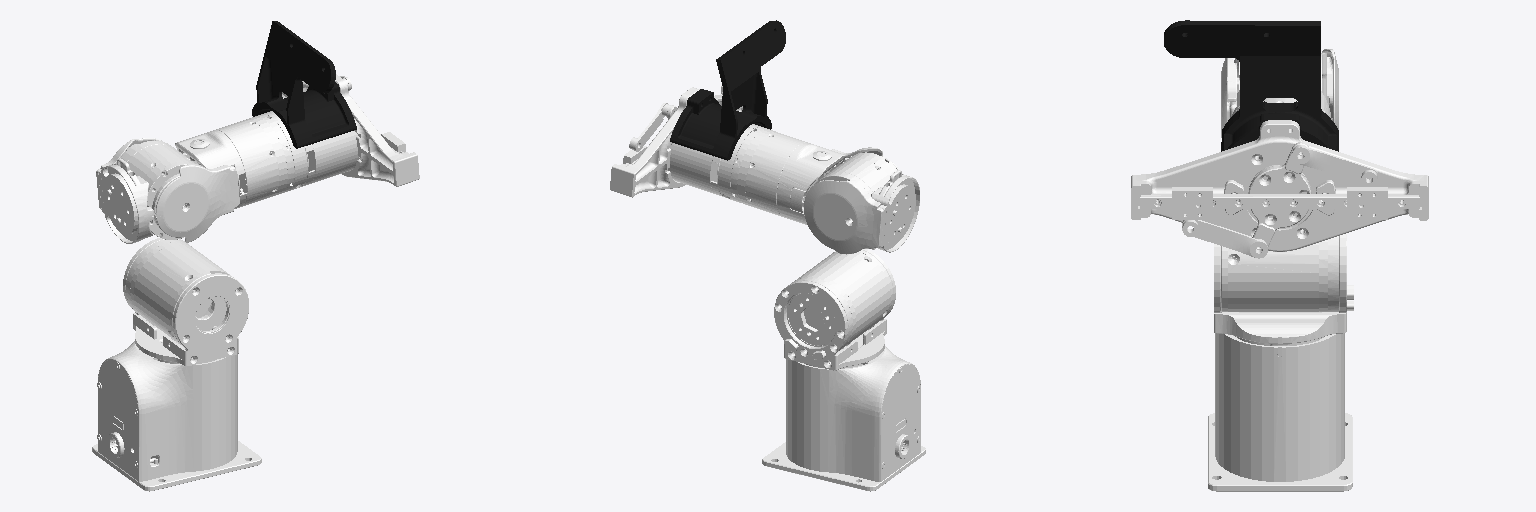
The robot description file, URDF, robot "piper_l_camera":
<?xml version="1.0" ?>
<!-- =================================================================================== -->
<!-- |    This document was autogenerated by xacro from piper_l_description.xacro      | -->
<!-- |    EDITING THIS FILE BY HAND IS NOT RECOMMENDED                                 | -->
<!-- =================================================================================== -->
<!-- This URDF was automatically created by SolidWorks to URDF Exporter! Originally created by [author] ([email redacted]) 
     Commit Version: 1.6.0-4-g7f85cfe  Build Version: 1.6.7995.38578
     For more information, please see http://wiki.ros.org/sw_urdf_exporter -->
<robot name="piper_l_camera">
  <material name="aluminum">
    <color rgba="0.5 0.5 0.5 1"/>
  </material>
  <material name="plastic">
    <color rgba="0.1 0.1 0.1 1"/>
  </material>
  <link name="d435_camera_link"/>
  <!-- camera body, with origin at bottom screw mount -->
  <joint name="camera_joint" type="fixed">
    <origin rpy="0 0 0" xyz="0 0 0"/>
    <parent link="d435_camera_link"/>
    <child link="camera_bottom_screw_frame"/>
  </joint>
  <link name="camera_bottom_screw_frame"/>
  <joint name="camera_link_joint" type="fixed">
    <origin rpy="0 0 0" xyz="0.010600000000000002 0.0175 0.0125"/>
    <parent link="camera_bottom_screw_frame"/>
    <child link="camera_link"/>
  </joint>
  <link name="camera_link">
    <visual>
      <!-- the mesh origin is at front plate in between the two infrared camera axes -->
      <origin rpy="1.5707963267948966 0 1.5707963267948966" xyz="0.0043 -0.0175 0"/>
      <geometry>
        <mesh filename="file://[local-path]/piper_ws/install/realsense2_description/share/realsense2_description/meshes/d435.dae"/>
      </geometry>
    </visual>
    <collision>
      <origin rpy="0 0 0" xyz="0 -0.0175 0"/>
      <geometry>
        <box size="0.02505 0.09 0.025"/>
      </geometry>
    </collision>
    <inertial>
      <!-- The following are not reliable values, and should not be used for modeling -->
      <mass value="0.072"/>
      <origin xyz="0 0 0"/>
      <inertia ixx="0.003881243" ixy="0.0" ixz="0.0" iyy="0.000498940" iyz="0.0" izz="0.003879257"/>
    </inertial>
  </link>
  <!-- <xacro:if value="${add_plug}">
      <xacro:usb_plug parent="${name}_link" name="${name}_usb_plug">
        <origin xyz="${d435_cam_mount_from_center_offset - 0.02095} ${-d435_cam_depth_py - 0.0353} 0" rpy="0 0 0"/>
      </xacro:usb_plug>
    </xacro:if> -->
  <link name="base_link">
    <inertial>
      <origin rpy="0 0 0" xyz="-0.00868903062596066 -7.81380379250471E-05 0.0446229676471226"/>
      <mass value="0.228506683240186"/>
      <inertia ixx="0.000187231110737863" ixy="-1.08010529187549E-07" ixz="7.71183528612253E-06" iyy="0.000204010911651774" iyz="1.70367399031094E-07" izz="0.00023064619033588"/>
    </inertial>
    <visual>
      <origin rpy="0 0 0" xyz="0 0 0"/>
      <geometry>
        <mesh filename="package://piper_l_description/meshes/dae/base_link.dae"/>
      </geometry>
      <material name="">
        <color rgba="1 1 1 1"/>
      </material>
    </visual>
    <collision>
      <origin rpy="0 0 0" xyz="0 0 0"/>
      <geometry>
        <mesh filename="package://piper_l_description/meshes/dae/base_link.dae"/>
      </geometry>
    </collision>
  </link>
  <link name="Link1">
    <inertial>
      <origin rpy="0 0 0" xyz="0.000817078696798893 0.00114472671573105 -0.00814265146610774"/>
      <mass value="0.104656591084326"/>
      <inertia ixx="3.99694684501781E-05" ixy="2.71846206160129E-07" ixz="1.78275886199695E-07" iyy="5.78589658643876E-05" iyz="1.01977672018063E-07" izz="4.75851844139222E-05"/>
    </inertial>
    <visual>
      <origin rpy="0 0 0" xyz="0 0 0"/>
      <geometry>
        <mesh filename="package://piper_l_description/meshes/dae/link1.dae"/>
      </geometry>
      <material name="">
        <color rgba="1 1 1 1"/>
      </material>
    </visual>
    <collision>
      <origin rpy="0 0 0" xyz="0 0 0"/>
      <geometry>
        <mesh filename="package://piper_l_description/meshes/dae/link1.dae"/>
      </geometry>
    </collision>
  </link>
  <joint name="joint1" type="revolute">
    <origin rpy="0 0 0" xyz="0 0 0.123"/>
    <parent link="base_link"/>
    <child link="Link1"/>
    <axis xyz="0 0 1"/>
    <limit effort="100" lower="-2.618" upper="2.618" velocity="3"/>
  </joint>
  <link name="Link2">
    <inertial>
      <origin rpy="0 0 0" xyz="0.214411452554835 -0.0136807991474291 0.00265923105206891"/>
      <mass value="0.289829779851577"/>
      <inertia ixx="0.000159609737372076" ixy="8.49438511625834E-05" ixz="-8.73341391348404E-07" iyy="0.00182424524515505" iyz="-1.7222217649261E-06" izz="0.00188778950006189"/>
    </inertial>
    <visual>
      <origin rpy="0 0 0" xyz="0 0 0"/>
      <geometry>
        <mesh filename="package://piper_l_description/meshes/dae/link2.dae"/>
      </geometry>
      <material name="">
        <color rgba="1 1 1 1"/>
      </material>
    </visual>
    <collision>
      <origin rpy="0 0 0" xyz="0 0 0"/>
      <geometry>
        <mesh filename="package://piper_l_description/meshes/dae/link2.dae"/>
      </geometry>
    </collision>
  </link>
  <joint name="joint2" type="revolute">
    <origin rpy="1.5708 -0.10598 3.1416" xyz="0 0 0"/>
    <parent link="Link1"/>
    <child link="Link2"/>
    <axis xyz="0 0 1"/>
    <limit effort="100" lower="0" upper="3.14" velocity="3"/>
  </joint>
  <link name="Link3">
    <inertial>
      <origin rpy="0 0 0" xyz="-0.00911397384332024 -0.149791842909887 -0.000591510024110218"/>
      <mass value="0.144963320053385"/>
      <inertia ixx="0.000284000764414434" ixy="6.61776597268393E-06" ixz="3.88642213881568E-07" iyy="4.88134965842348E-05" iyz="8.80027301936097E-07" izz="0.000297733639002112"/>
    </inertial>
    <visual>
      <origin rpy="0 0 0" xyz="0 0 0"/>
      <geometry>
        <mesh filename="package://piper_l_description/meshes/dae/link3.dae"/>
      </geometry>
      <material name="">
        <color rgba="1 1 1 1"/>
      </material>
    </visual>
    <collision>
      <origin rpy="0 0 0" xyz="0 0 0"/>
      <geometry>
        <mesh filename="package://piper_l_description/meshes/dae/link3.dae"/>
      </geometry>
    </collision>
  </link>
  <joint name="joint3" type="revolute">
    <origin rpy="0 0 -1.8325" xyz="0.33823 0 0"/>
    <parent link="Link2"/>
    <child link="Link3"/>
    <axis xyz="0 0 1"/>
    <limit effort="100" lower="-2.697" upper="0" velocity="3"/>
  </joint>
  <link name="Link4">
    <inertial>
      <origin rpy="0 0 0" xyz="0.0010653905699945 0.00476990191039629 -0.00995810184233214"/>
      <mass value="0.063036548689954"/>
      <inertia ixx="1.68358640686144E-05" ixy="-1.51073528999065E-08" ixz="-3.61196055919328E-07" iyy="2.79335598814104E-05" iyz="1.18113194001076E-07" izz="1.85339684805634E-05"/>
    </inertial>
    <visual>
      <origin rpy="0 0 0" xyz="0 0 0"/>
      <geometry>
        <mesh filename="package://piper_l_description/meshes/dae/link4.dae"/>
      </geometry>
      <material name="">
        <color rgba="1 1 1 1"/>
      </material>
    </visual>
    <collision>
      <origin rpy="0 0 0" xyz="0 0 0"/>
      <geometry>
        <mesh filename="package://piper_l_description/meshes/dae/link4.dae"/>
      </geometry>
    </collision>
  </link>
  <joint name="joint4" type="revolute">
    <origin rpy="1.5708 0 0.1557" xyz="0 -0.3215 0"/>
    <parent link="Link3"/>
    <child link="Link4"/>
    <axis xyz="0 0 1"/>
    <limit effort="100" lower="-1.832" upper="1.832" velocity="3"/>
  </joint>
  <link name="Link5">
    <inertial>
      <origin rpy="0 0 0" xyz="-5.62618579153795E-05 -0.0453229588602131 -0.00689048082401968"/>
      <mass value="0.069099989781007"/>
      <inertia ixx="1.94244470320096E-05" ixy="-3.01270043465718E-08" ixz="-1.82908713601451E-08" iyy="2.97665185121334E-05" iyz="1.74803886281955E-07" izz="2.43073597160068E-05"/>
    </inertial>
    <visual>
      <origin rpy="0 0 0" xyz="0 0 0"/>
      <geometry>
        <mesh filename="package://piper_l_description/meshes/dae/link5.dae"/>
      </geometry>
      <material name="">
        <color rgba="1 1 1 1"/>
      </material>
    </visual>
    <collision>
      <origin rpy="0 0 0" xyz="0 0 0"/>
      <geometry>
        <mesh filename="package://piper_l_description/meshes/dae/link5.dae"/>
      </geometry>
    </collision>
  </link>
  <joint name="joint5" type="revolute">
    <origin rpy="-1.5708 -0.087272 0" xyz="0 0 0"/>
    <parent link="Link4"/>
    <child link="Link5"/>
    <axis xyz="0 0 -1"/>
    <limit effort="100" lower="-1.22" upper="1.22" velocity="3"/>
  </joint>
  <link name="Link6">
    <inertial>
      <origin rpy="0 0 0" xyz="-3.49720252756924E-15 -3.47851379593264E-06 -0.00315807577104896"/>
      <mass value="0.00563228459599247"/>
      <inertia ixx="5.13060019382932E-07" ixy="-1.55709158367416E-20" ixz="1.27617424904681E-19" iyy="5.13060019383189E-07" iyz="6.20132760426175E-20" izz="9.81761489300716E-07"/>
    </inertial>
    <visual>
      <origin rpy="-1.57 0 1.57" xyz="0.008 -0.002 0.064"/>
      <geometry>
        <mesh filename="package://piper_l_description/meshes/dae/gripper_base_100_v3.dae" scale="1 1 1"/>
      </geometry>
      <material name="">
        <color rgba="1 1 1 1"/>
      </material>
    </visual>
    <collision>
      <origin rpy="-1.57 0 1.57" xyz="0.008 -0.002 0.064"/>
      <geometry>
        <mesh filename="package://piper_l_description/meshes/dae/gripper_base_100_v3.dae" scale="1 1 1"/>
      </geometry>
    </collision>
  </link>
  <joint name="joint6" type="revolute">
    <origin rpy="1.5708 0 0" xyz="0 -0.091 0"/>
    <parent link="Link5"/>
    <child link="Link6"/>
    <axis xyz="0 0 1"/>
    <limit effort="100" lower="-3.14" upper="3.14" velocity="3"/>
  </joint>
  <link name="Link7">
    <visual>
      <geometry>
        <mesh filename="package://piper_l_description/meshes/dae/link7.dae"/>
      </geometry>
      <material name="LightGrey">
        <color rgba="0.7 0.7 0.7 1.0"/>
      </material>
    </visual>
    <collision>
      <geometry>
        <mesh filename="package://piper_l_description/meshes/dae/link7.dae"/>
      </geometry>
    </collision>
    <inertial>
      <mass value="0.0"/>
      <origin rpy="0.0 0.0 0.0" xyz="0.0 0.0 0.0"/>
      <inertia ixx="0.0" ixy="0.0" ixz="0.0" iyy="0.0" iyz="0.0" izz="0.0"/>
    </inertial>
  </link>
  <joint name="joint7" type="prismatic">
    <origin rpy="1.5708 0 0" xyz="0 0 0.13503"/>
    <parent link="Link6"/>
    <child link="Link7"/>
    <axis xyz="0 0 -1"/>
    <limit effort="100" lower="0" upper="0.05" velocity="1"/>
  </joint>
  <link name="Link8">
    <inertial>
      <origin rpy="0 0 0" xyz="0.000277816920932317 0.0467673824063769 -0.00921030054508036"/>
      <mass value="0.0264822021416248"/>
      <inertia ixx="9.99779119357223E-06" ixy="-1.57542283433504E-07" ixz="2.71367446701359E-08" iyy="6.17952441557932E-06" iyz="1.58939319453383E-06" izz="1.4210192754512E-05"/>
    </inertial>
    <visual>
      <origin rpy="0 0 0" xyz="0 0 0"/>
      <geometry>
        <mesh filename="package://piper_l_description/meshes/dae/link8.dae"/>
      </geometry>
      <material name="">
        <color rgba="0.792156862745098 0.819607843137255 0.933333333333333 1"/>
      </material>
    </visual>
    <collision>
      <origin rpy="0 0 0" xyz="0 0 0"/>
      <geometry>
        <mesh filename="package://piper_l_description/meshes/dae/link8.dae"/>
      </geometry>
    </collision>
  </link>
  <joint name="joint8" type="prismatic">
    <origin rpy="-1.5708 0 0" xyz="0 0 0.13503"/>
    <parent link="Link6"/>
    <child link="Link8"/>
    <axis xyz="0 0 1"/>
    <limit effort="100" lower="-0.05" upper="0" velocity="1"/>
  </joint>
  <link name="camera_stand_link">
    <inertial>
      <origin rpy="0.0 0.0 0.0" xyz="0.0 0.0 0.0"/>
      <mass value="0.0"/>
      <inertia ixx="0.0" ixy="0.0" ixz="0.0" iyy="0.0" iyz="0.0" izz="0.0"/>
    </inertial>
    <visual name="">
      <origin rpy="0.0 3.14 1.57" xyz="0.0 0.0 0.0"/>
      <geometry>
        <mesh filename="package://piper_l_description/meshes/dae/realsense_mid_stand_v2.dae"/>
      </geometry>
    </visual>
    <collision>
      <origin rpy="0.0 0.0 0.0" xyz="0.0 0.0 0.0"/>
      <geometry>
        <mesh filename="package://piper_l_description/meshes/dae/realsense_mid_stand_v2.dae"/>
      </geometry>
    </collision>
  </link>
  <joint name="camera_stand_joint" type="fixed">
    <origin rpy="0 0 0" xyz="-0.034 -0.002 0.023"/>
    <parent link="Link6"/>
    <child link="camera_stand_link"/>
    <axis xyz="0.0 0.0 0.0"/>
    <limit effort="0.0" lower="0.0" upper="0.0" velocity="0.0"/>
  </joint>
  <joint name="d435_camera_joint" type="fixed">
    <origin rpy="0.0 -1.22 0" xyz="-0.032 -0.028 0.0"/>
    <parent link="camera_stand_link"/>
    <child link="d435_camera_link"/>
    <axis xyz="0.0 0.0 0.0"/>
    <limit effort="0.0" lower="0.0" upper="0.0" velocity="0.0"/>
  </joint>
</robot>

--- Render facts (derived) ---
Views: 3 orthographic renders of the robot side by side, from view 1: azimuth 30°, elevation 25°; view 2: azimuth 150°, elevation 25°; view 3: azimuth 270°, elevation 25°.
Model piper_l_camera with 13 links and 12 joints (6 revolute, 2 prismatic, 4 fixed), rooted at base_link, posed all joints at 0.
Visible links, largest first — view 1: base_link, Link1, Link5, camera_stand_link, Link6, Link4; view 2: base_link, Link1, Link4, camera_stand_link, Link5, Link6; view 3: Link6, base_link, camera_stand_link, Link1, Link5, Link4.
Link boxes in pixels (x1=…): base_link: x1=92, y1=341, x2=261, y2=491; Link1: x1=123, y1=238, x2=248, y2=365; Link5: x1=152, y1=114, x2=294, y2=242; camera_stand_link: x1=252, y1=21, x2=356, y2=148; Link6: x1=264, y1=74, x2=419, y2=190; Link4: x1=96, y1=138, x2=194, y2=243; base_link: x1=762, y1=346, x2=925, y2=491; Link1: x1=774, y1=249, x2=895, y2=370; Link4: x1=804, y1=152, x2=919, y2=254; camera_stand_link: x1=670, y1=20, x2=785, y2=160; Link5: x1=731, y1=127, x2=898, y2=224; Link6: x1=610, y1=86, x2=760, y2=201; Link6: x1=1131, y1=120, x2=1428, y2=258; base_link: x1=1208, y1=333, x2=1352, y2=491; camera_stand_link: x1=1164, y1=20, x2=1338, y2=151; Link1: x1=1214, y1=233, x2=1353, y2=345; Link5: x1=1221, y1=58, x2=1331, y2=137; Link4: x1=1234, y1=49, x2=1338, y2=129.
Size in the robot's own frame: 0.2024 by 0.164 by 0.3068 metres.
6 mesh visuals loaded from 10 distinct referenced files (6 Collada DAE); not drawn: 4 (reference not matched to a file when rendering), 1 (reference in a form the renderer does not follow; not among the files counted above).
